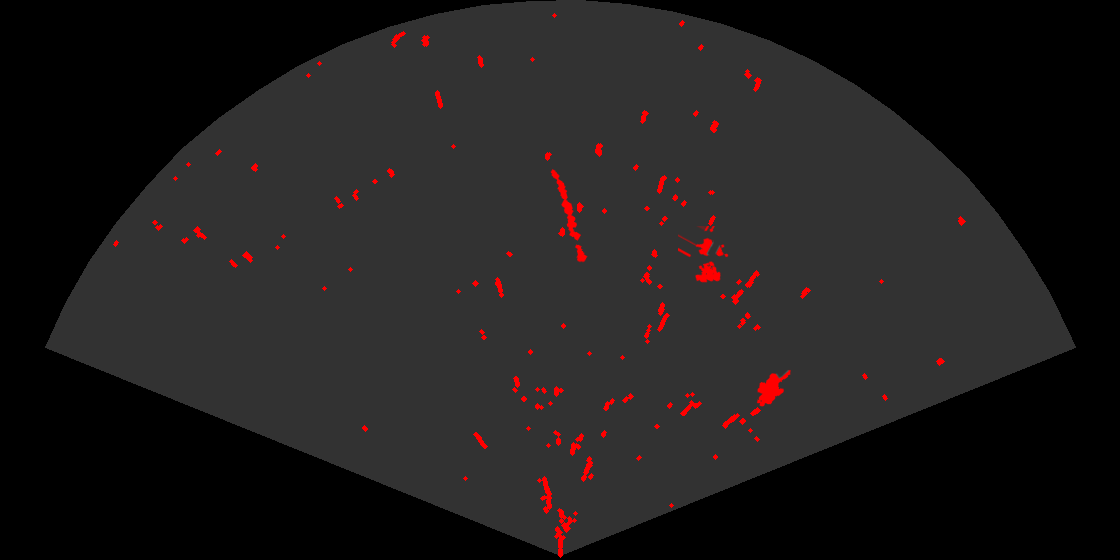AUV: (755, 368, 792, 408)
cage: (678, 226, 730, 284)
chain: (549, 168, 589, 264)
